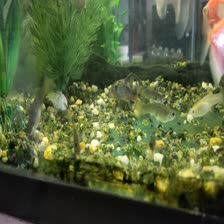Guppy: (20, 66, 61, 138), (188, 82, 223, 120), (135, 100, 182, 124)
Kiros: (105, 75, 171, 102)
